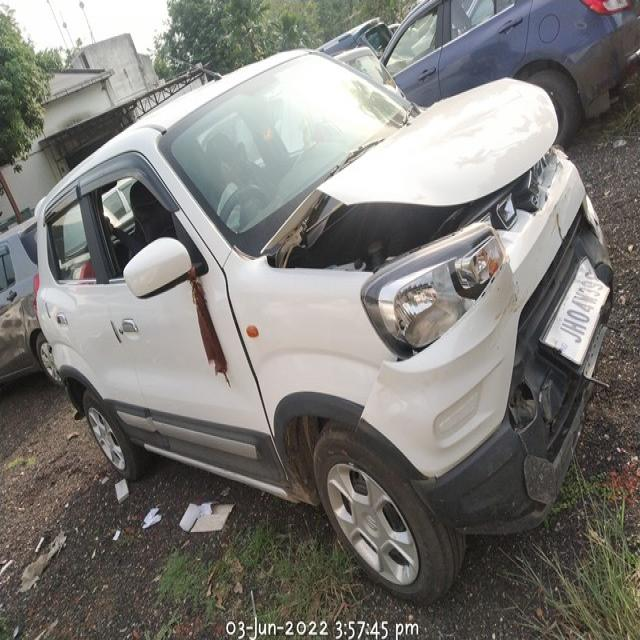damage: (346, 261, 518, 473), (263, 116, 560, 238), (523, 315, 586, 463), (567, 205, 616, 344), (500, 375, 537, 444), (550, 208, 568, 247)
